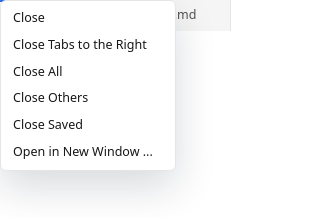
EditorTabs: the tab menu › open in new window › moves the tab that was right-clicked, and closes the menu
Click the menu item "Open in New Window ...".
click(88, 152)  # box [5, 139, 171, 166]
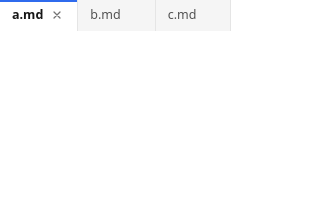
Expected: the menu is gone
